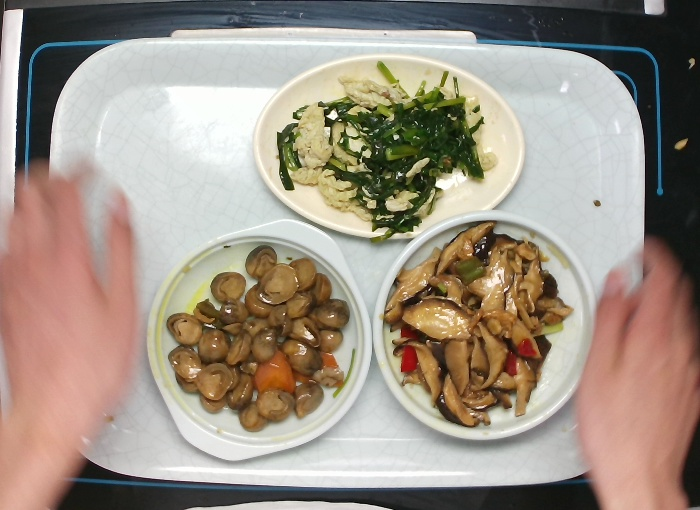JYsf-Shuang_Er_Pan: (145, 217, 372, 464)
JYsf-Tuo_Yuan_Wan: (251, 53, 527, 242)
JYsf-Xiao_Yuan_Pan: (371, 208, 600, 441)
